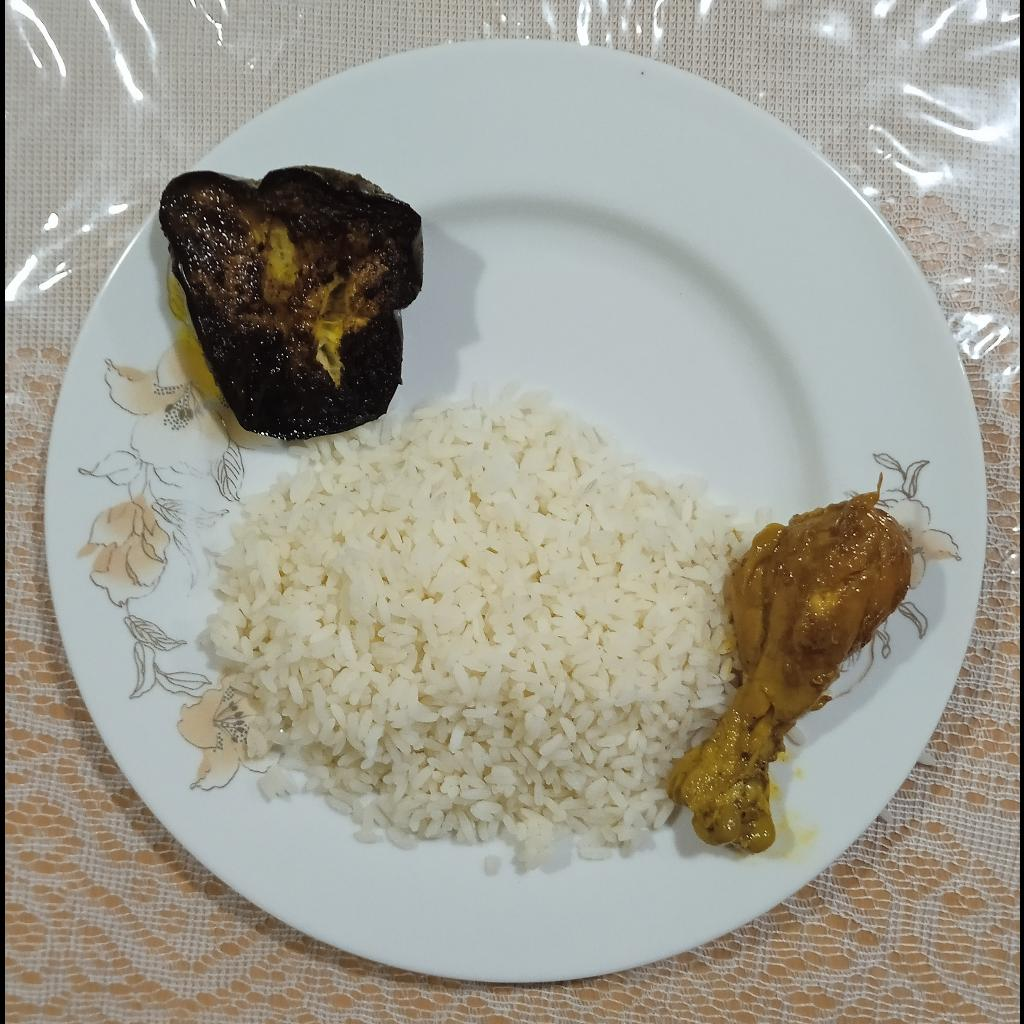begun-vaji: (157, 164, 424, 439)
chicken: (670, 488, 915, 856)
rice: (208, 383, 777, 878)
